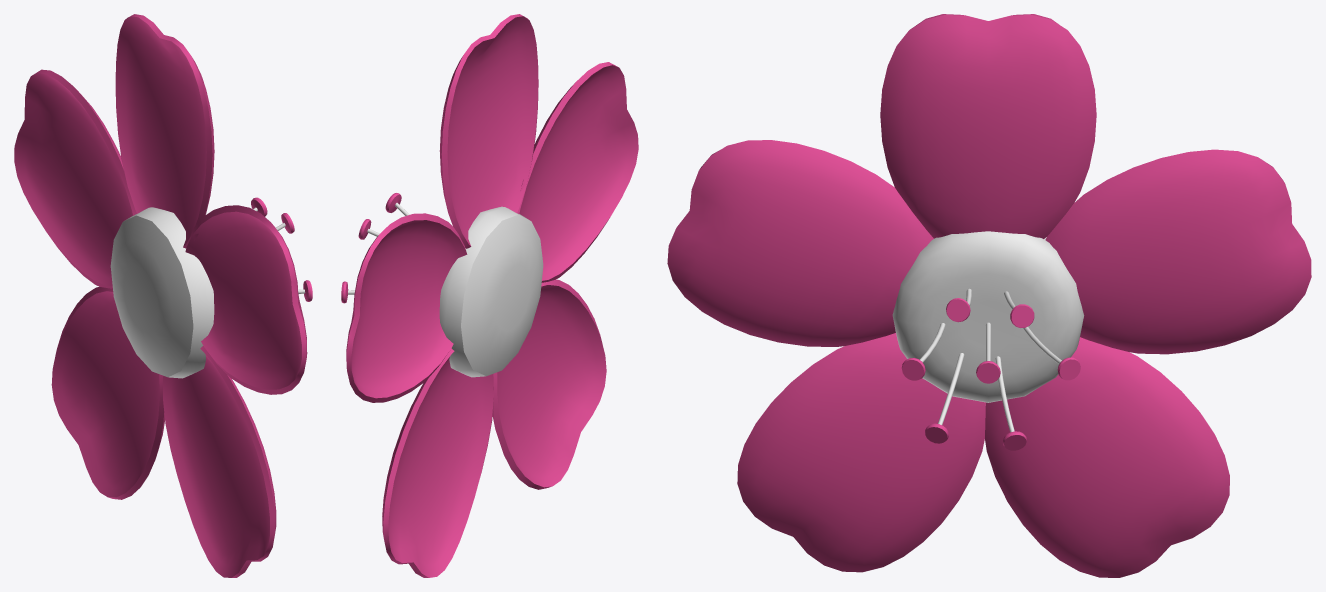
File: Cherry Blossom.gltf
The picture shows the model from 3 angles, left to right: view 1: azimuth 30°, elevation 25°; view 2: azimuth 150°, elevation 25°; view 3: azimuth 270°, elevation 25°; orthographic projection. The views are drawn at different scales.
Parts seen in each view (by area): view 1: Cube.171, Circle.2027; view 2: Cube.171, Circle.2027; view 3: Cube.171, Circle.2027.
Boxes of the visible parts, x1,y1,x2,y2 form: Cube.171: (14,14,307,577); Circle.2027: (110,197,312,378); Cube.171: (346,14,638,577); Circle.2027: (341,193,543,377); Cube.171: (667,14,1311,577); Circle.2027: (892,231,1084,450).
Size of the model in its own units: 0.5296 by 1.81 by 1.88.
